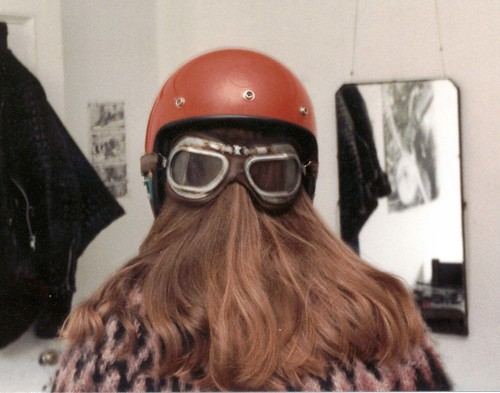helmet: (133, 32, 320, 141)
